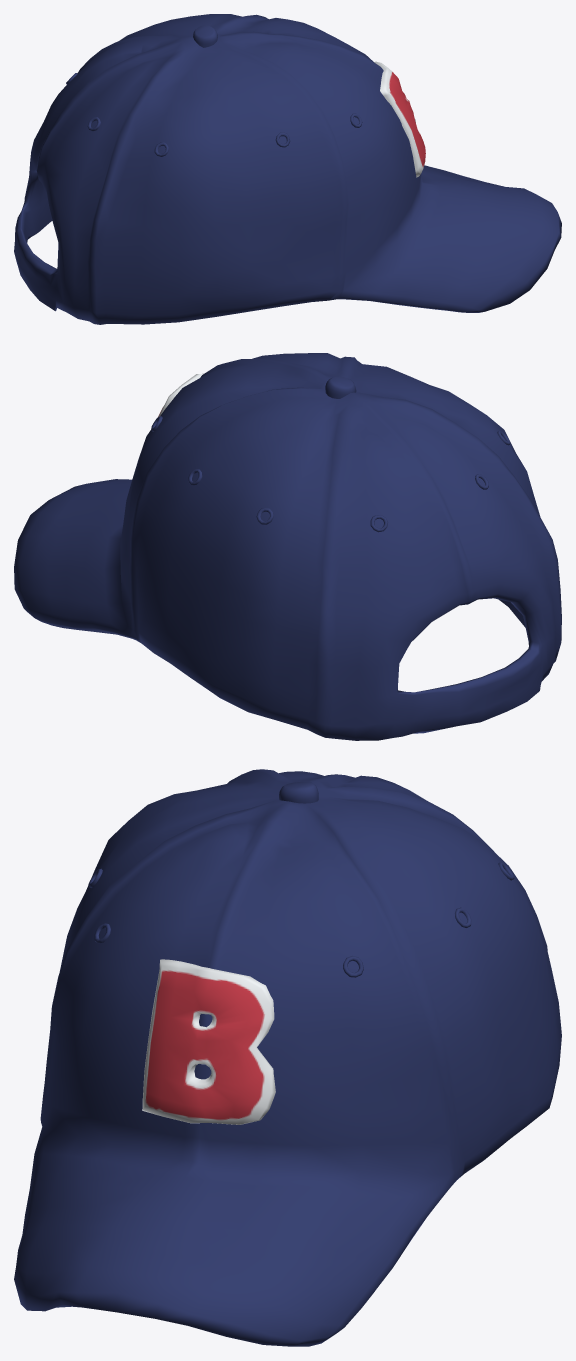
File: cap1.glb
The picture shows the model from 3 angles, top to bottom: view 1: azimuth 30°, elevation 25°; view 2: azimuth 150°, elevation 25°; view 3: azimuth 270°, elevation 25°; orthographic projection. The views are drawn at different scales.
Visible parts, largest first — view 1: node_id113; view 2: node_id113; view 3: node_id113.
Boxes of the visible parts, x1,y1,x2,y2 form: node_id113: [14, 14, 561, 324]; node_id113: [14, 353, 561, 740]; node_id113: [14, 769, 561, 1346].
Size of the model in its own units: 0.6743 by 0.3539 by 0.4683.
1 material, 1 textured.
